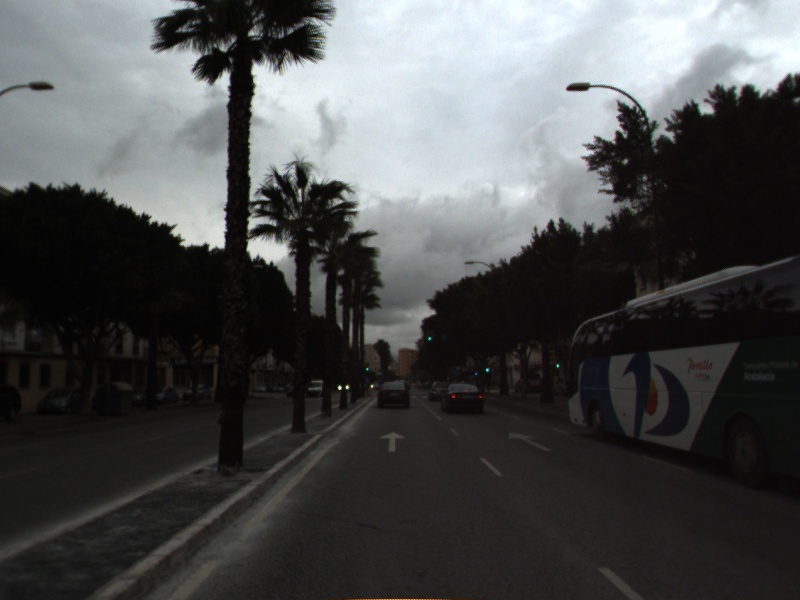STRAIGHT: (506, 429, 554, 453), (377, 429, 409, 454)
